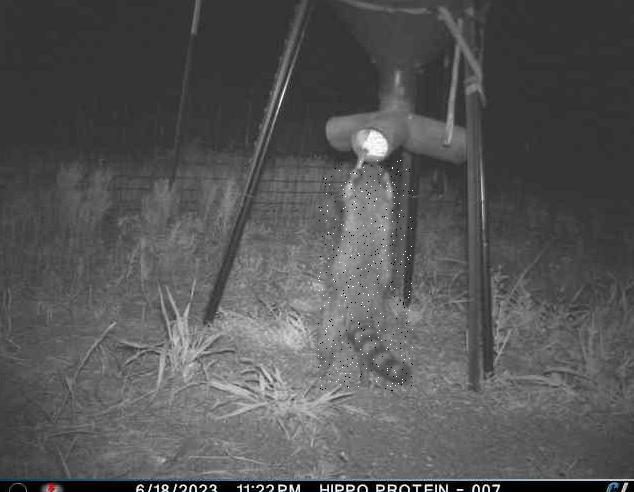Raccoon: (318, 160, 413, 391)
